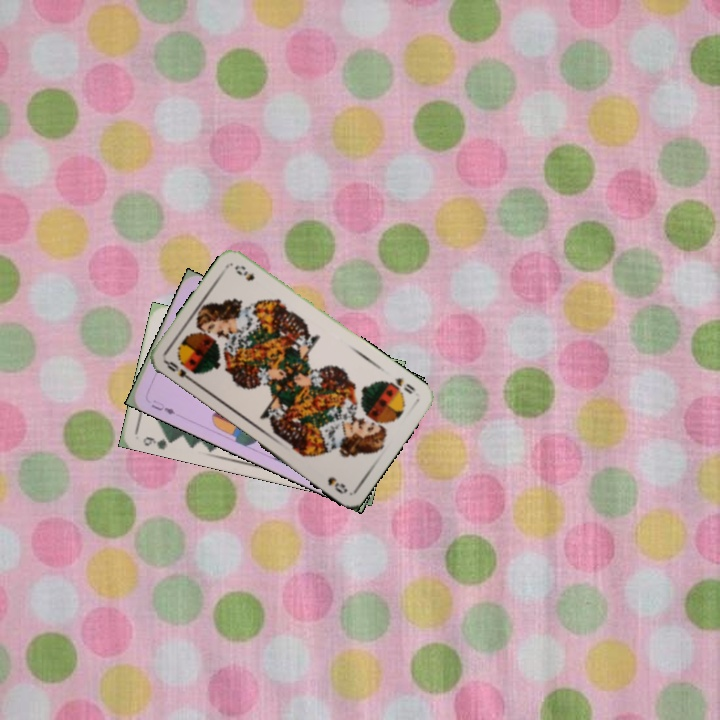EU: (147, 395, 178, 417)
G9: (139, 432, 177, 452)
SO: (161, 357, 197, 385), (386, 373, 418, 397)
